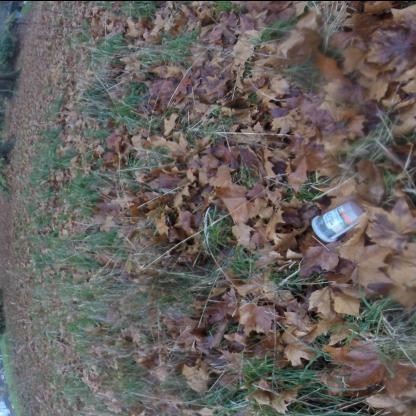plastik: (312, 199, 364, 242)
